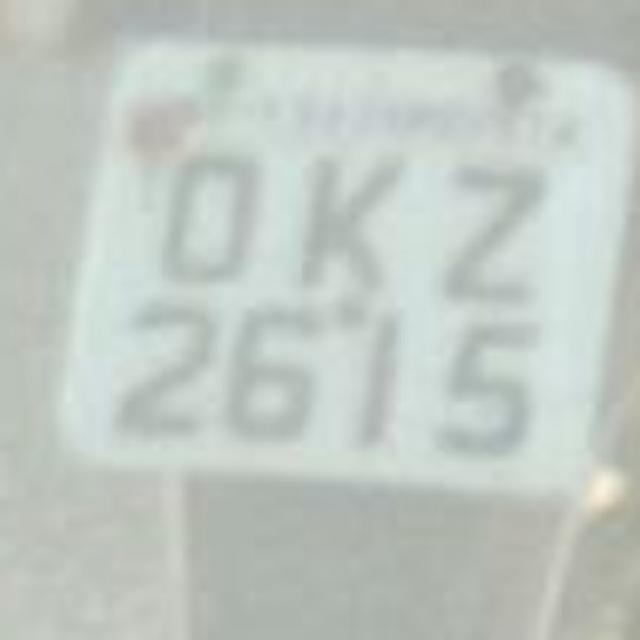1: (320, 289, 428, 456)
2: (100, 280, 228, 468)
5: (420, 288, 555, 452)
6: (211, 284, 344, 456)
K: (271, 128, 404, 300)
O: (136, 128, 264, 304)
Z: (416, 136, 549, 292)
